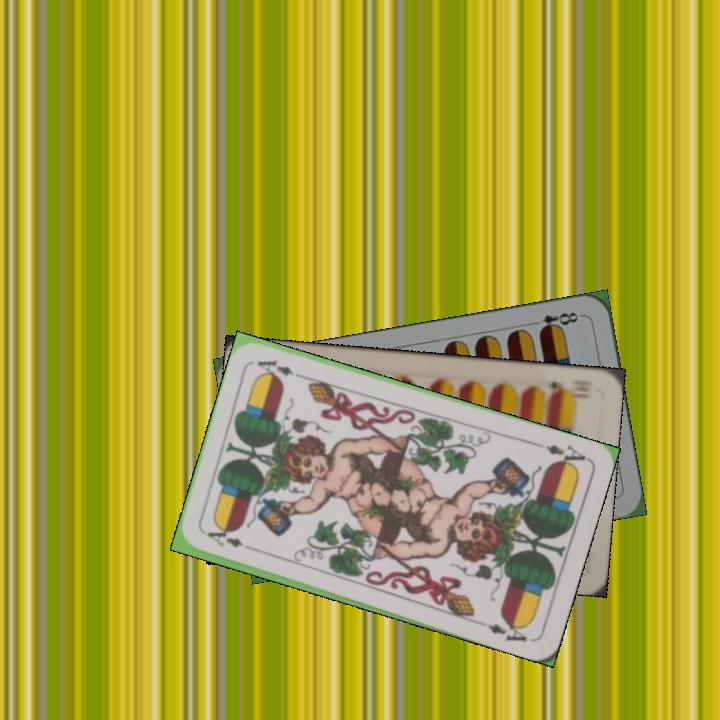E10: (547, 377, 591, 397)
E8: (526, 308, 585, 336)
EA: (531, 439, 589, 471), (203, 527, 258, 552)
